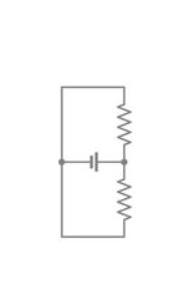resistor: (104, 166, 143, 230), (110, 93, 137, 149)
